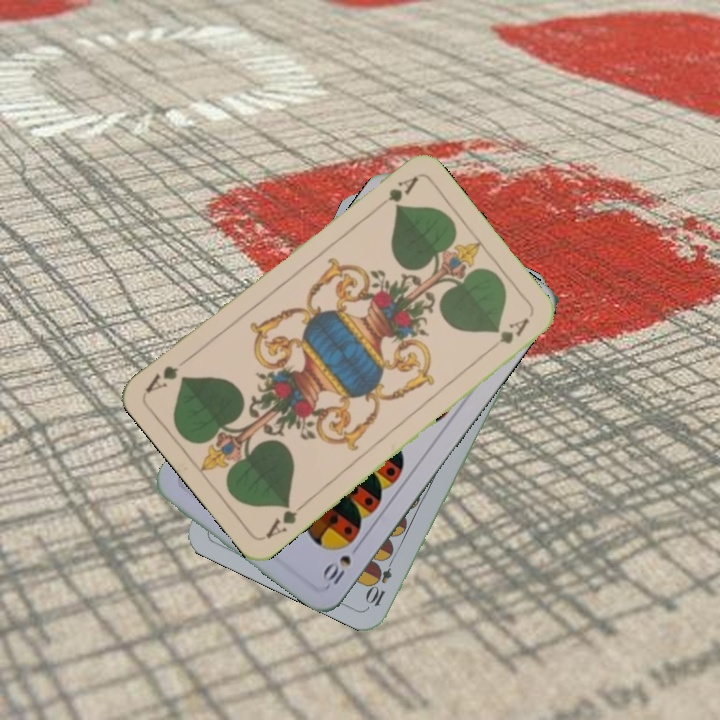E10: (363, 552, 398, 609)
GA: (369, 172, 421, 215), (261, 497, 310, 542)
S10: (318, 539, 364, 589)
